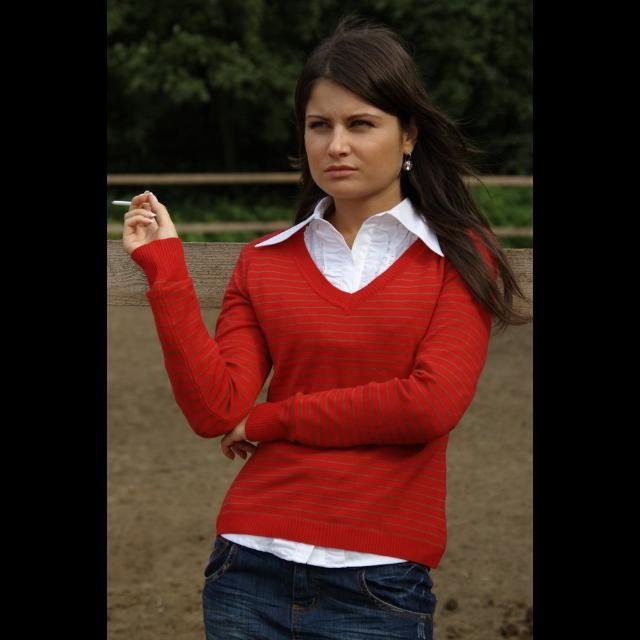rokok: (113, 192, 137, 210)
